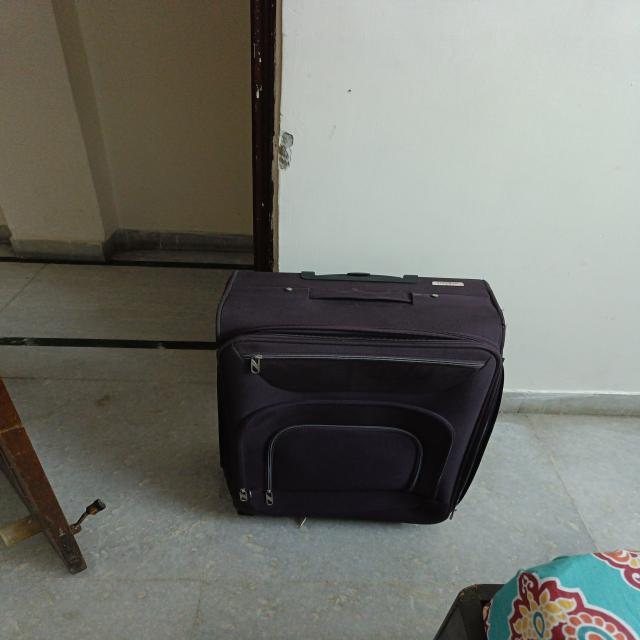suitcaserotation: (210, 263, 510, 528)
